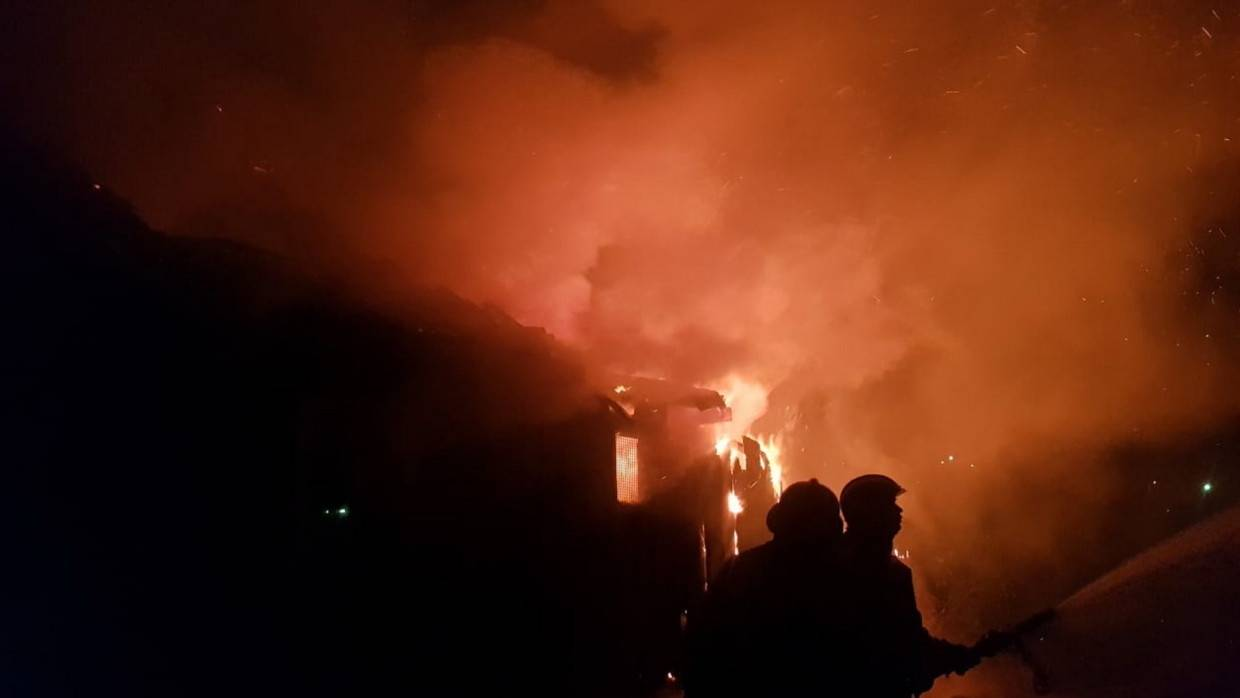fire: (230, 57, 1168, 470)
